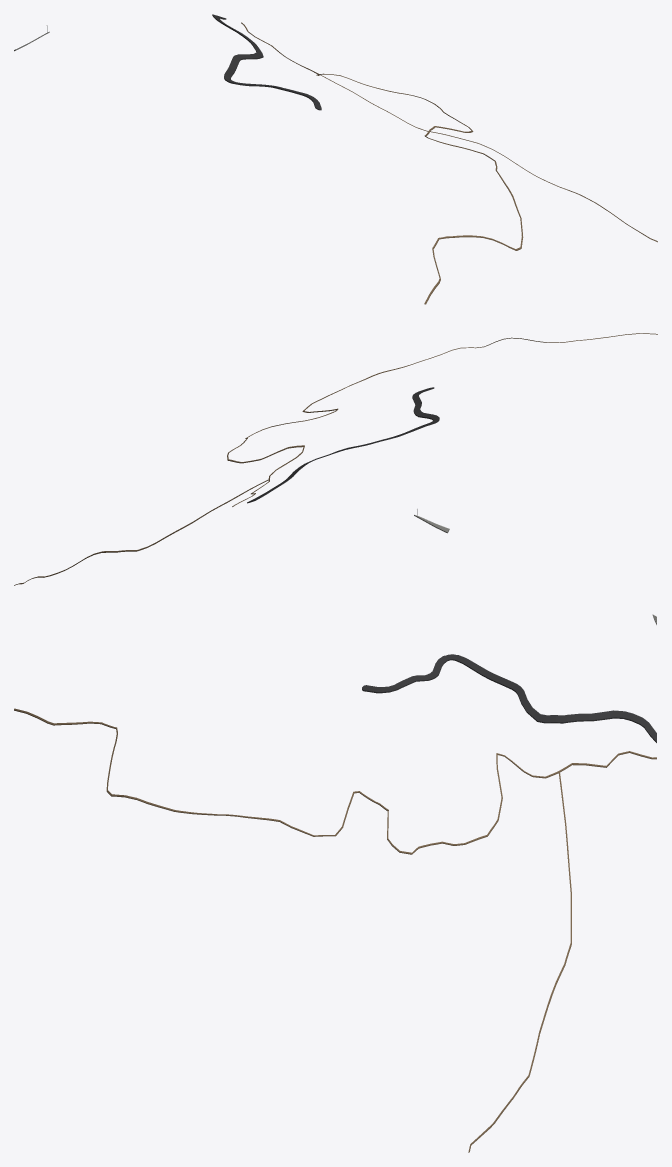
The picture shows the model from 3 angles, top to bottom: view 1: azimuth 30°, elevation 25°; view 2: azimuth 150°, elevation 25°; view 3: azimuth 270°, elevation 25°; orthographic projection. The views are drawn at different scales.
Bounding box in the file's own units: 586 × 280 × 584.
